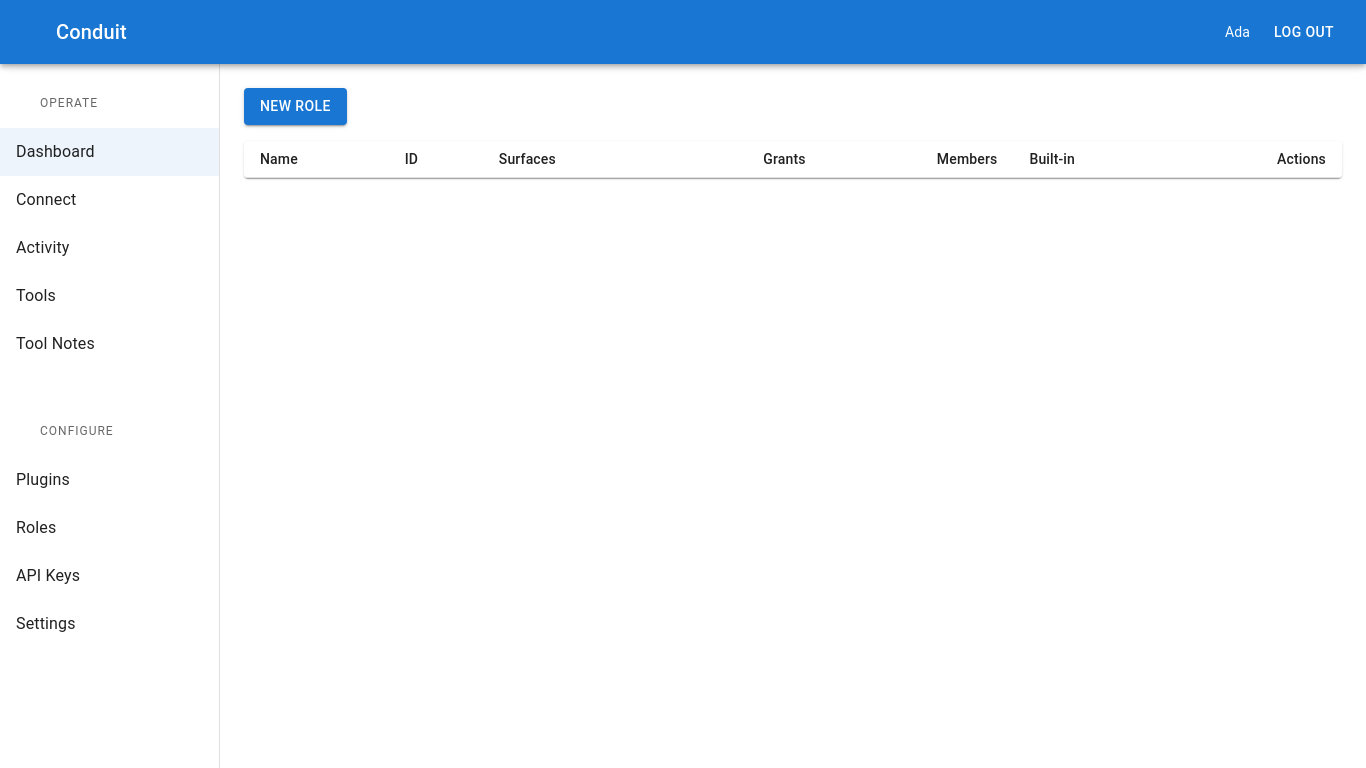
Test: roles page › blocks a new role with an invalid id and shows the format error
This screenshot has width=1366, height=768.
Step 1. Click the button "New role" → (295, 106), box 244,88 -> 347,124
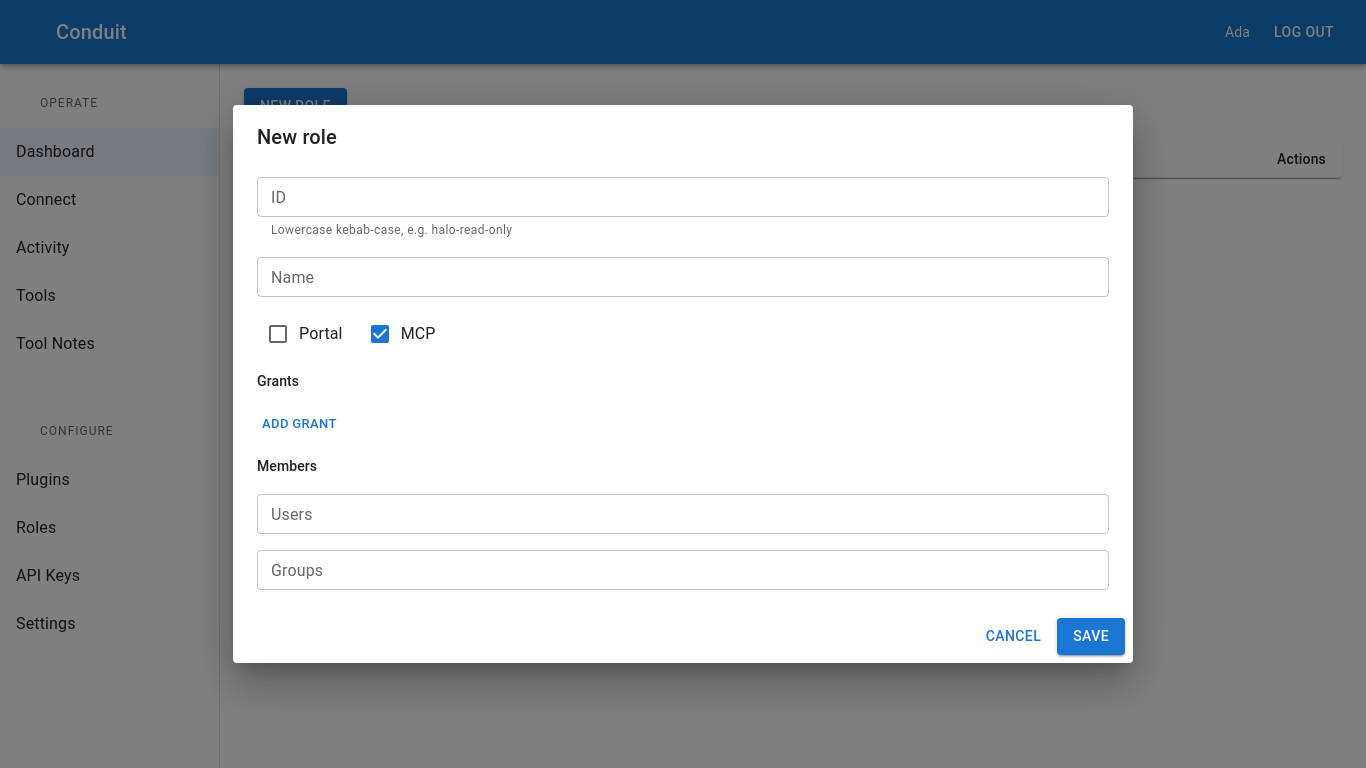
Step 2. Type "Bad Id" into the field labelled "ID" → (683, 198), box 257,178 -> 1109,218
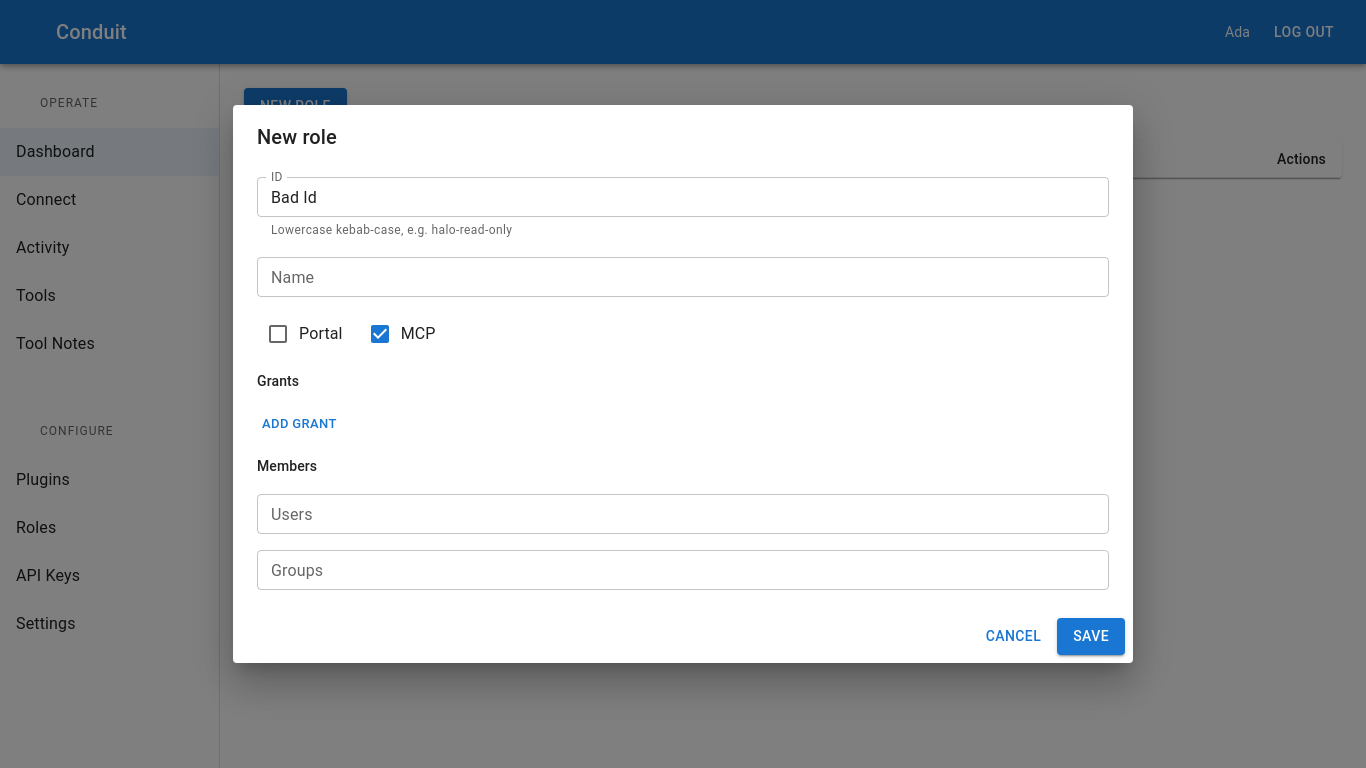
Step 3. Click the button "Save" → (1091, 636), box 1057,618 -> 1125,654
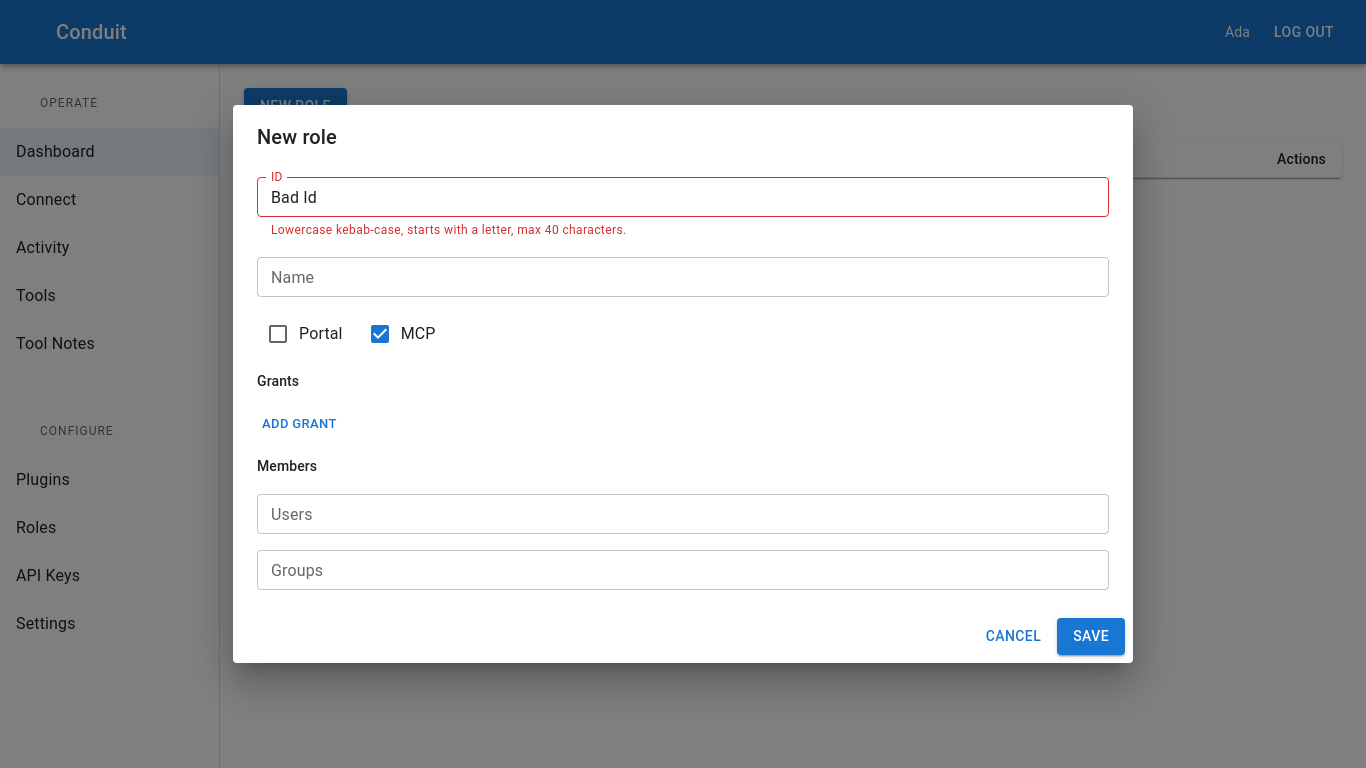
Check: the text "Lowercase kebab-case, starts with a letter, max 40 characters." is shown, box 271,224 -> 627,238
